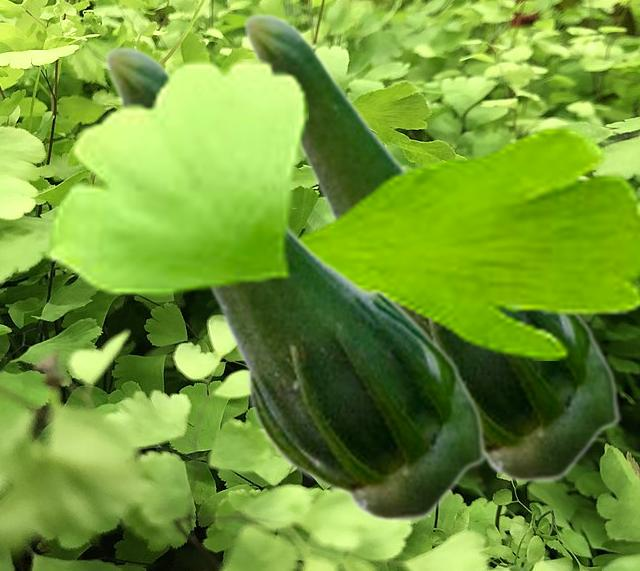okra: (103, 45, 486, 522), (242, 12, 620, 483)
